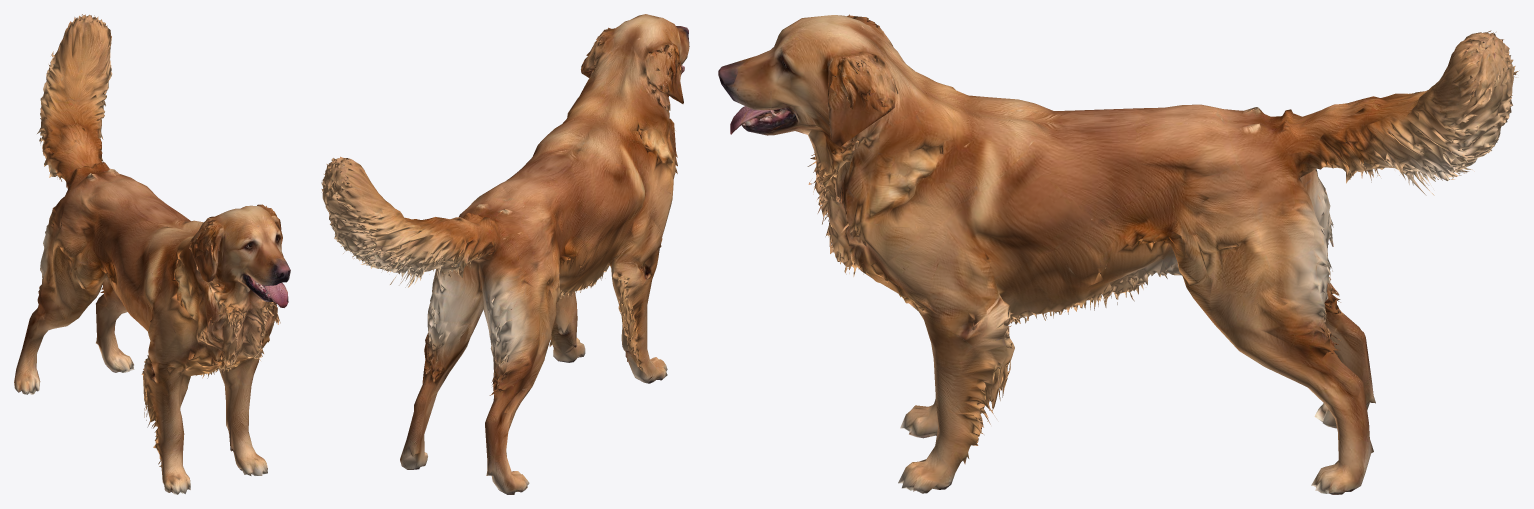
Rendered from golden-retriever.glb.
3 views of the same model, side by side, from view 1: azimuth 30°, elevation 25°; view 2: azimuth 150°, elevation 25°; view 3: azimuth 270°, elevation 25° (orthographic). The views are drawn at different scales.
Size of the model in its own units: 0.3353 by 0.72 by 1.12.
1 material, 1 textured.
